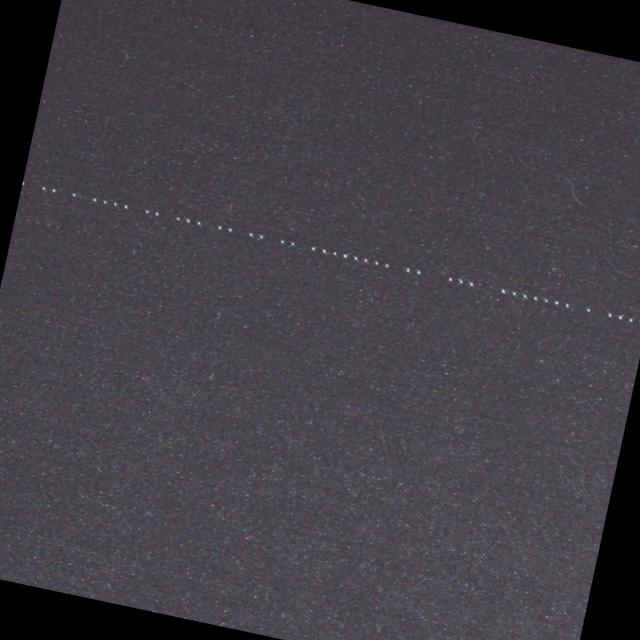Warp_Weft: (18, 169, 640, 334)
